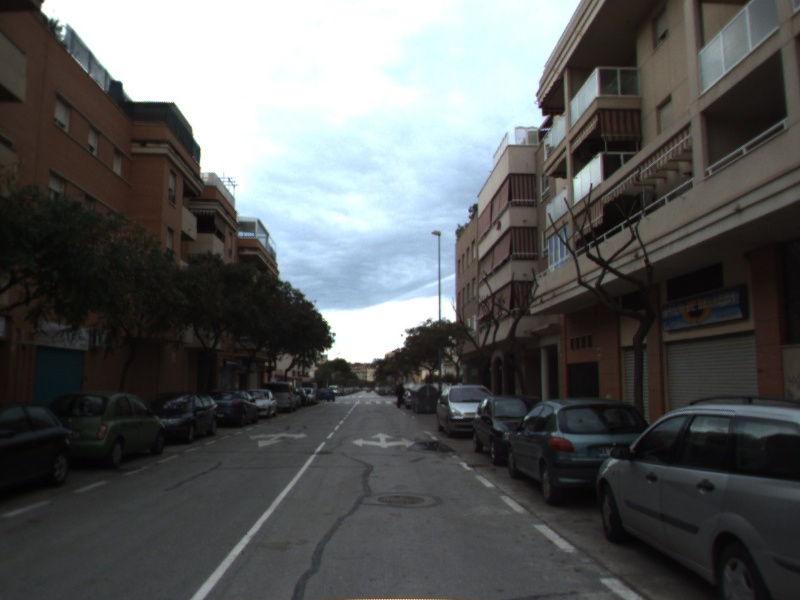STRAIGHT_LEFT_RIGHT: (350, 430, 418, 450)
